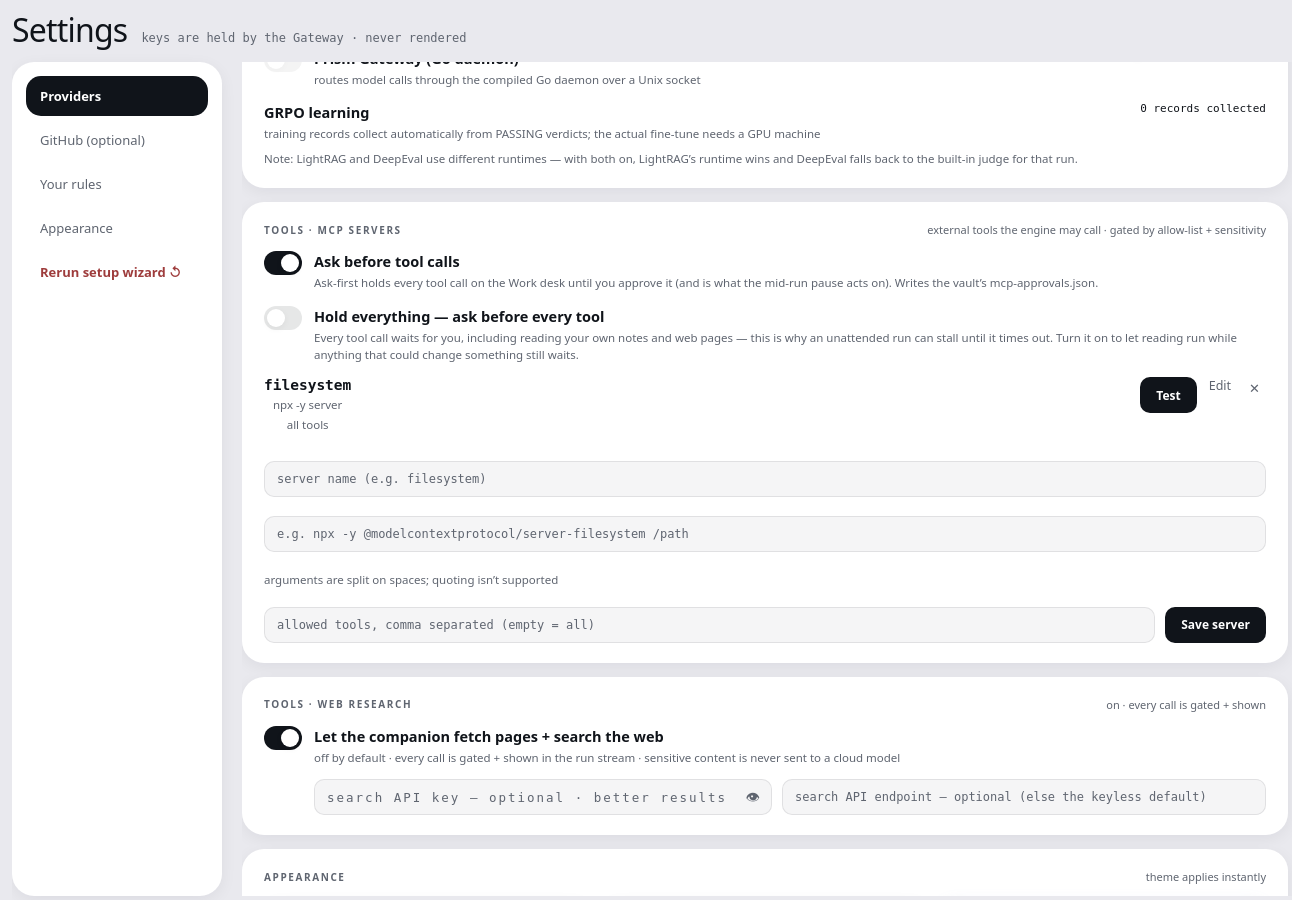
Settings — MCP servers section (native shell) › rejects a duplicate server name with an honest inline message
This screenshot has width=1292, height=900.
(page scrolled)
Expected: the text "filesystem" is shown, [264, 377, 351, 393]
In the field named "mcp server name": {"x": 765, "y": 479} [264, 461, 1266, 497], type "filesystem"
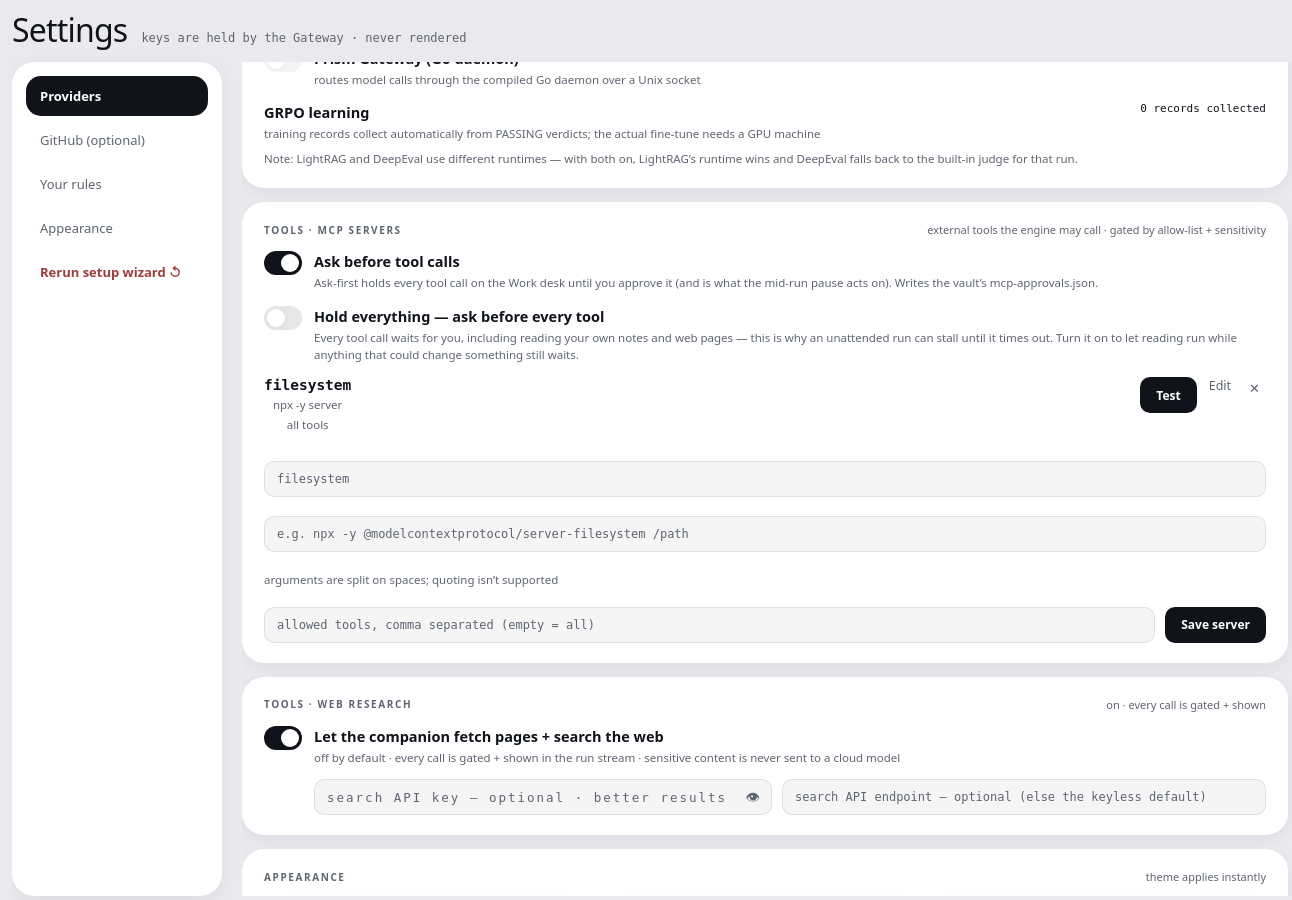
In the field named "mcp server command": {"x": 765, "y": 534} [264, 516, 1266, 552], type "npx -y other"
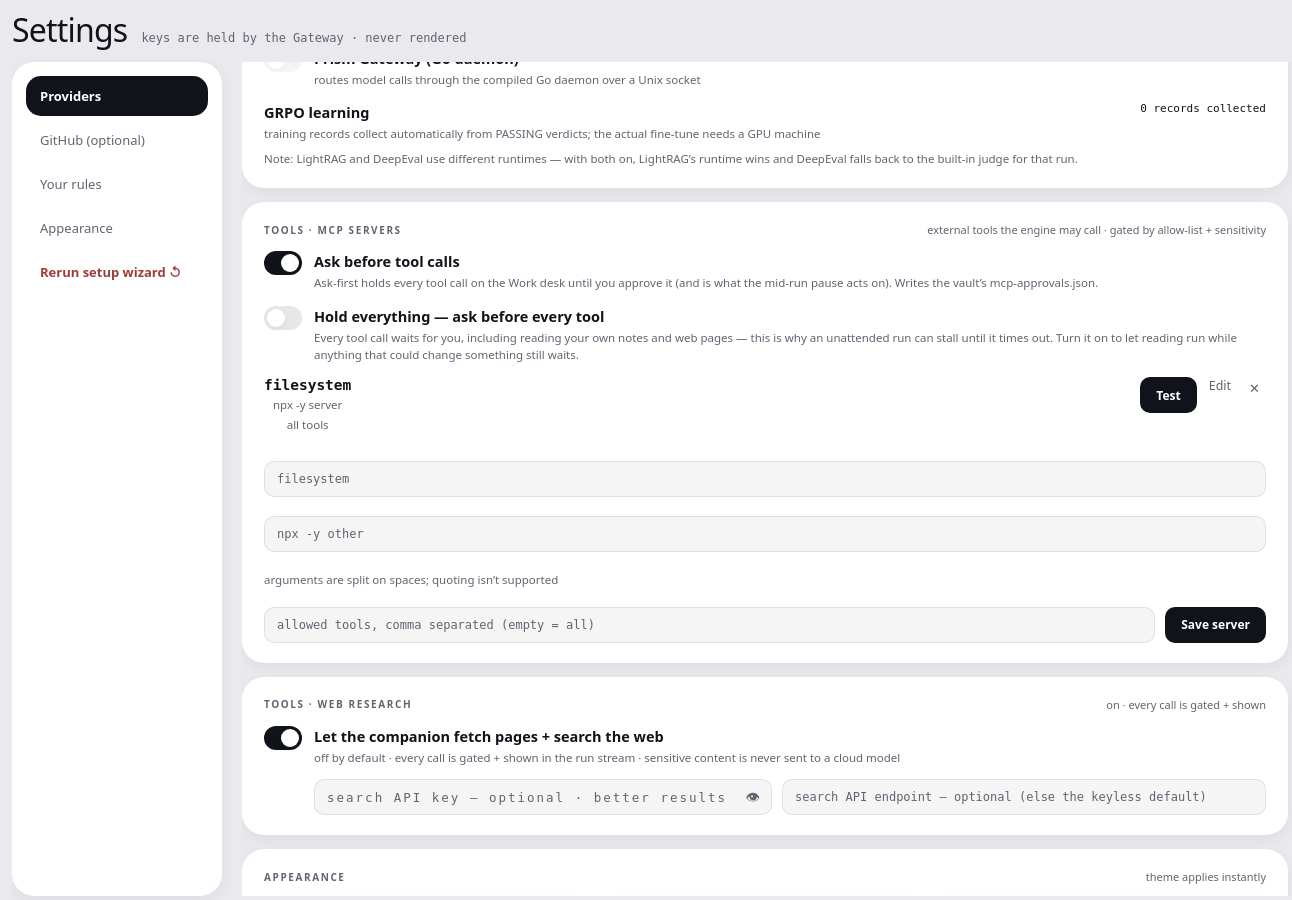
Click the button "Save server": {"x": 1216, "y": 625} [1165, 607, 1266, 643]
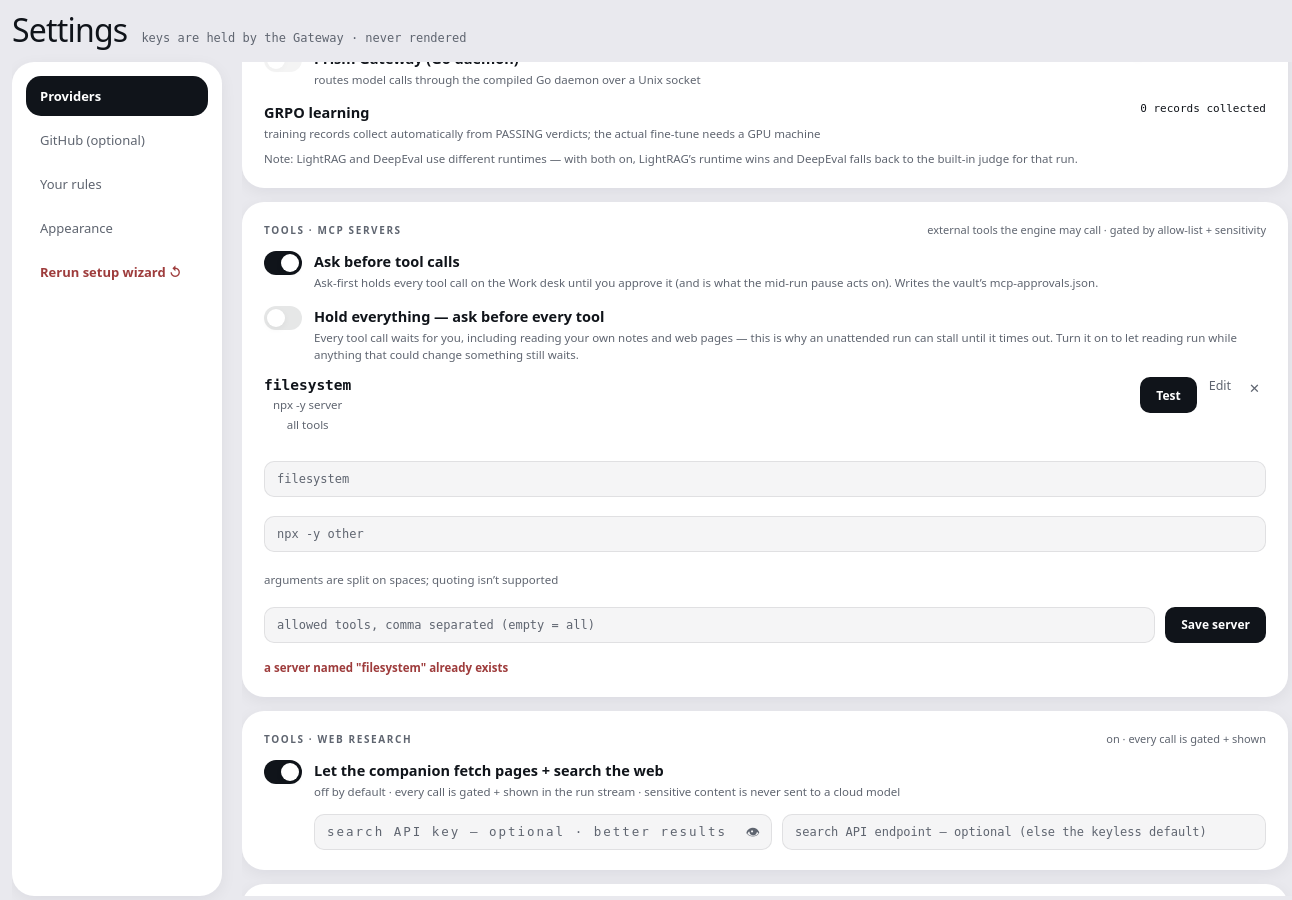
Now the text "a server named \"filesystem\" already exists" is shown, box [264, 660, 508, 675]
